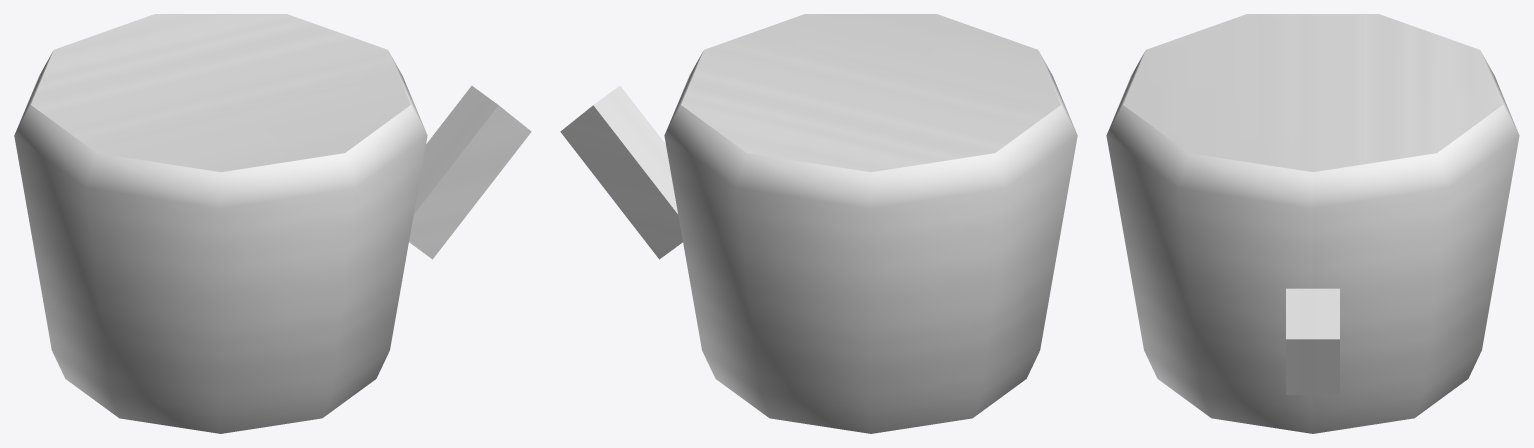
File: drug_tea.obj
3 renders of one model, left to right at view 1: azimuth 30°, elevation 25°; view 2: azimuth 150°, elevation 25°; view 3: azimuth 270°, elevation 25°, orthographic.
Visible parts, largest first — view 1: part_000_paint_cream, part_020_paint_cream; view 2: part_000_paint_cream, part_020_paint_cream; view 3: part_000_paint_cream, part_020_paint_cream.
Boxes of the visible parts, x1,y1,x2,y2 form: part_000_paint_cream: (14, 14, 427, 433); part_020_paint_cream: (409, 86, 531, 259); part_000_paint_cream: (664, 14, 1077, 433); part_020_paint_cream: (560, 86, 682, 259); part_000_paint_cream: (1106, 14, 1519, 433); part_020_paint_cream: (1286, 288, 1339, 394).
Size of the model in its own units: 0.2834 by 0.16 by 0.2166.
